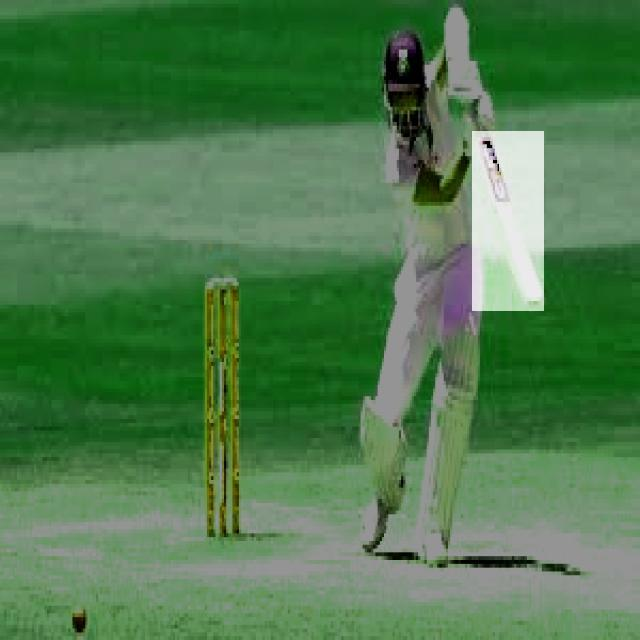bat: (469, 131, 546, 311)
toe: (521, 293, 545, 310)
